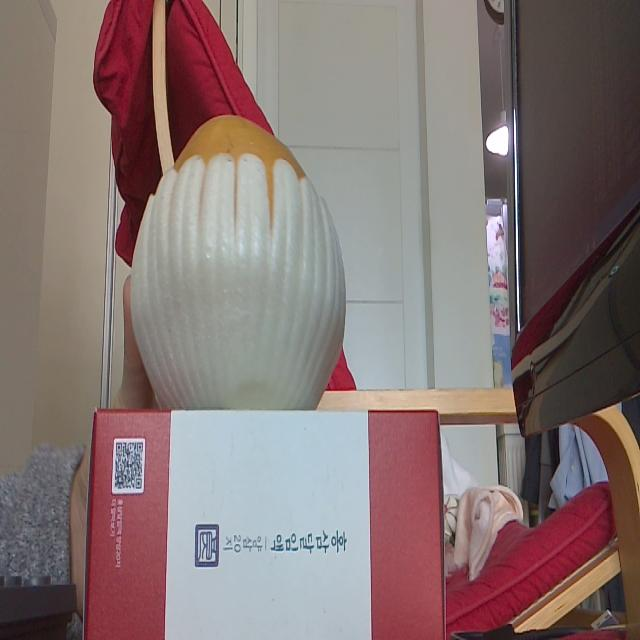pear: (130, 115, 348, 412)
